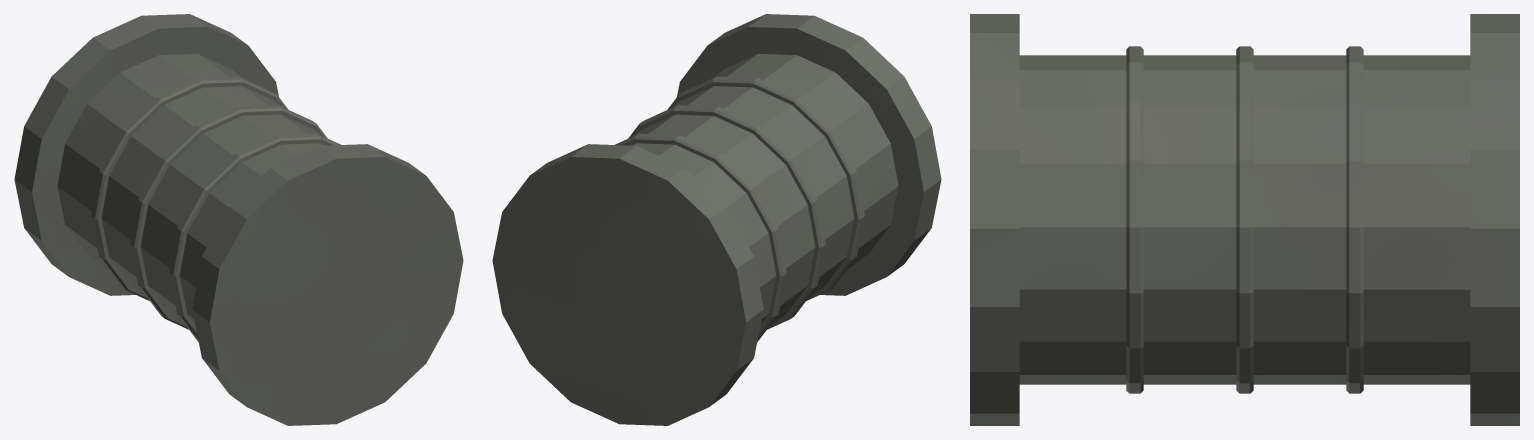
File: WarrensC_CCS24_ChainDrum_Mars_SM.fbx
3 views of the same model, side by side, from view 1: azimuth 30°, elevation 25°; view 2: azimuth 150°, elevation 25°; view 3: azimuth 270°, elevation 25° (orthographic). The views are drawn at different scales.
Visible parts, largest first — view 1: WarrensC_CCS24_ChainDrum_Mars_SM.001; view 2: WarrensC_CCS24_ChainDrum_Mars_SM.001; view 3: WarrensC_CCS24_ChainDrum_Mars_SM.001.
Part boxes in pixels (box(x1,y1,x2,y2)): WarrensC_CCS24_ChainDrum_Mars_SM.001: box(14, 14, 463, 425); WarrensC_CCS24_ChainDrum_Mars_SM.001: box(492, 14, 941, 425); WarrensC_CCS24_ChainDrum_Mars_SM.001: box(970, 14, 1519, 425).
Size of the model in its own units: 60 by 80 by 60.
